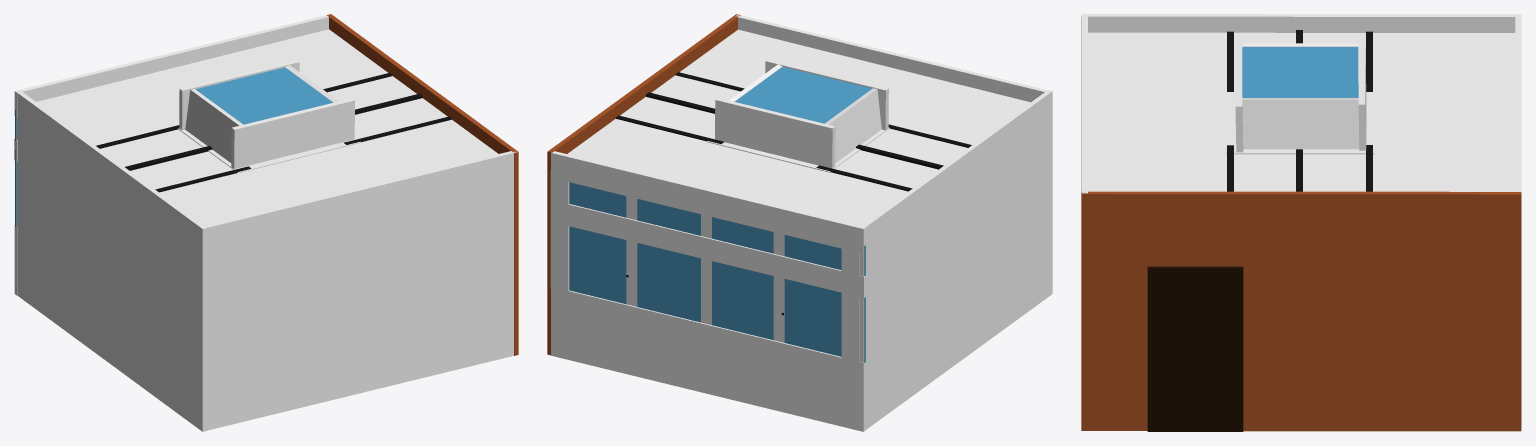
Rendered from Room - Empty.DAE.
The picture shows the model from 3 angles, left to right: view 1: azimuth 30°, elevation 25°; view 2: azimuth 150°, elevation 25°; view 3: azimuth 270°, elevation 25°; orthographic projection. The views are drawn at different scales.
Parts seen in each view (by area): view 1: Sphere001; view 2: Sphere001; view 3: Sphere001.
Boxes of the visible parts, x1,y1,x2,y2 form: Sphere001: (14, 14, 518, 431); Sphere001: (547, 14, 1052, 431); Sphere001: (1081, 14, 1521, 431).
Size of the model in its own units: 0.071 by 0.0489 by 0.0725.
